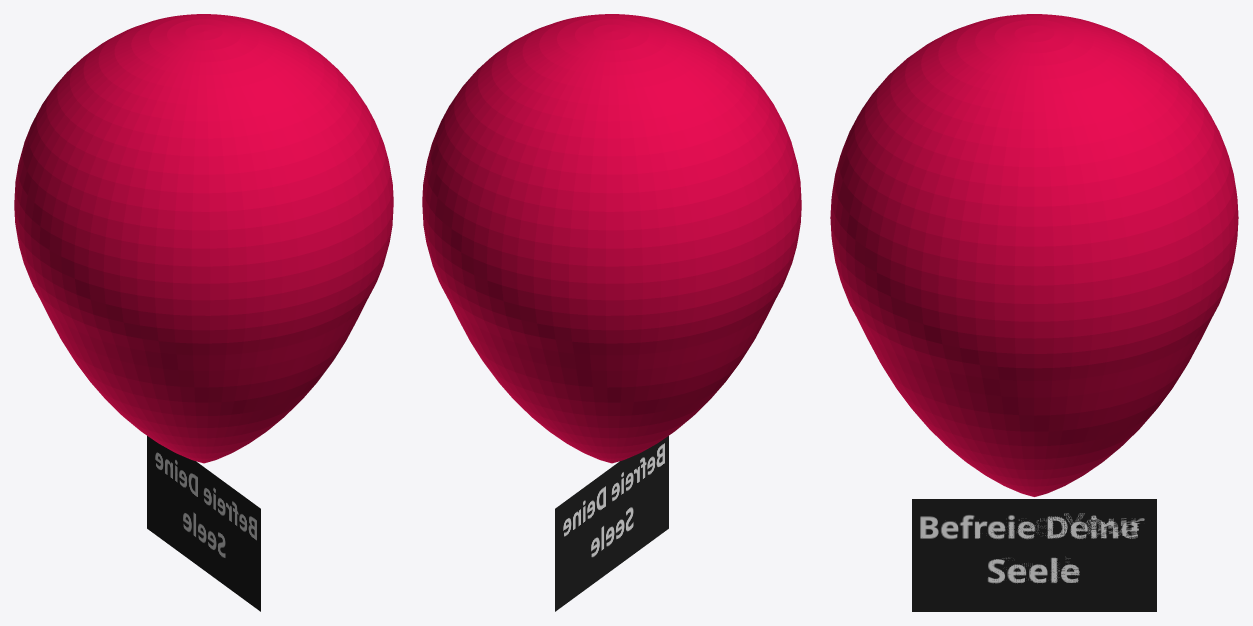
Rendered from ballon.glb.
3 views of the same model, side by side, from view 1: azimuth 30°, elevation 25°; view 2: azimuth 150°, elevation 25°; view 3: azimuth 270°, elevation 25° (orthographic). The views are drawn at different scales.
Visible parts, largest first — view 1: Balloon, Sign_DE; view 2: Balloon, Sign_DE; view 3: Balloon, Sign_DE, Sign_EN.
Part boxes in pixels (x1,y1,x2,y2): Balloon: (14, 14, 393, 463); Sign_DE: (147, 436, 260, 611); Balloon: (422, 14, 801, 463); Sign_DE: (555, 436, 668, 611); Balloon: (830, 14, 1238, 496); Sign_DE: (912, 501, 1156, 611); Sign_EN: (912, 499, 1156, 609).
Size of the model in its own units: 2 by 3.13 by 2.
3 materials, 2 textured.
